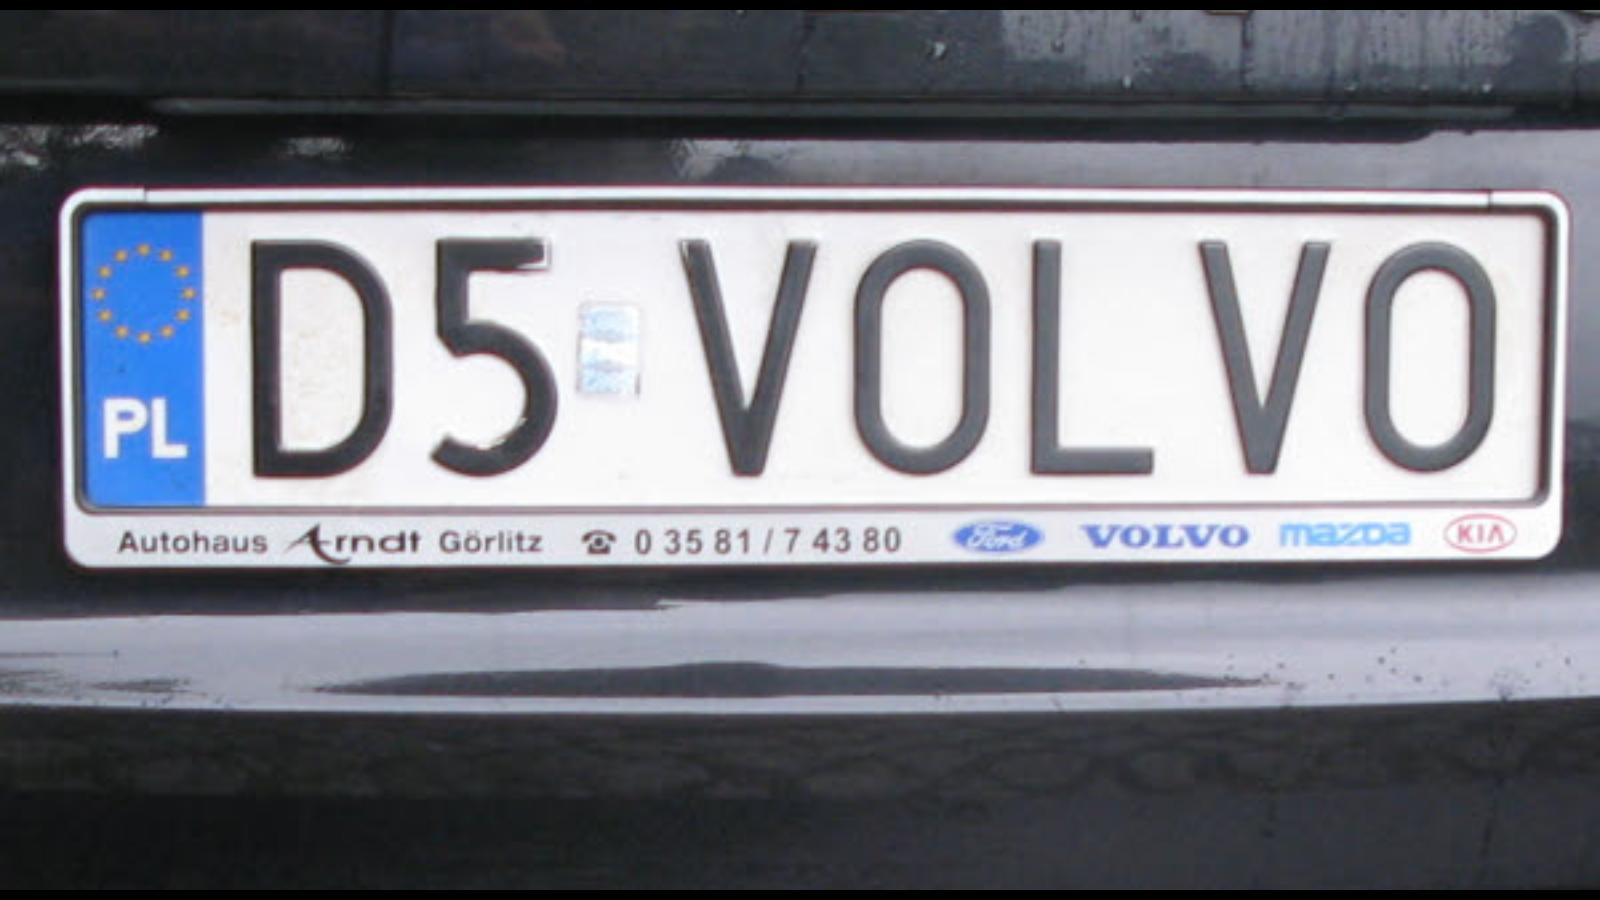plates: (57, 184, 1573, 566)
